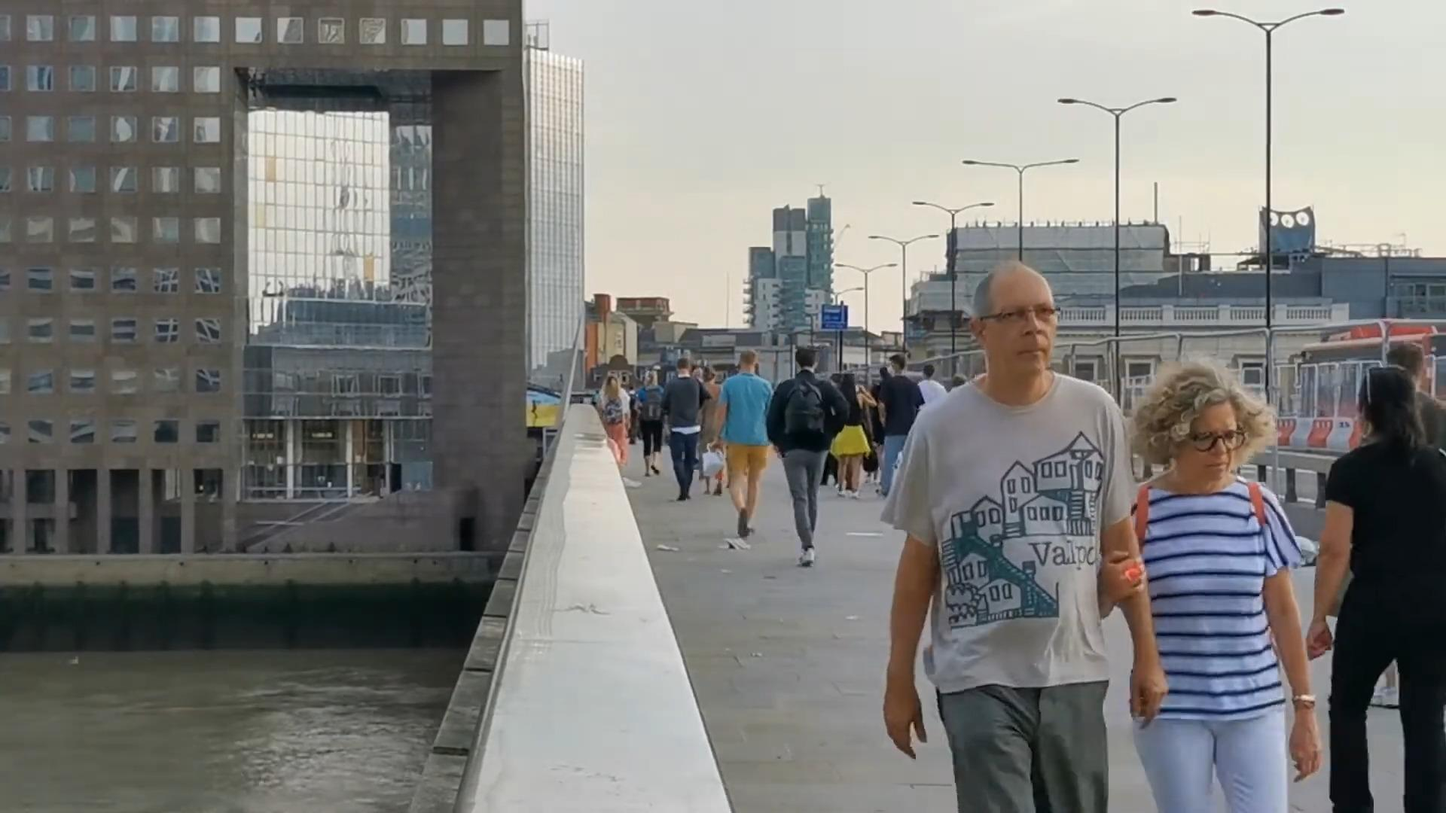no-helmet: (1128, 351, 1278, 486), (969, 262, 1061, 385), (1355, 367, 1427, 472), (1385, 341, 1425, 393), (795, 348, 819, 373), (839, 373, 857, 402), (887, 353, 906, 377), (740, 349, 757, 373), (604, 374, 619, 396), (675, 358, 690, 374)
